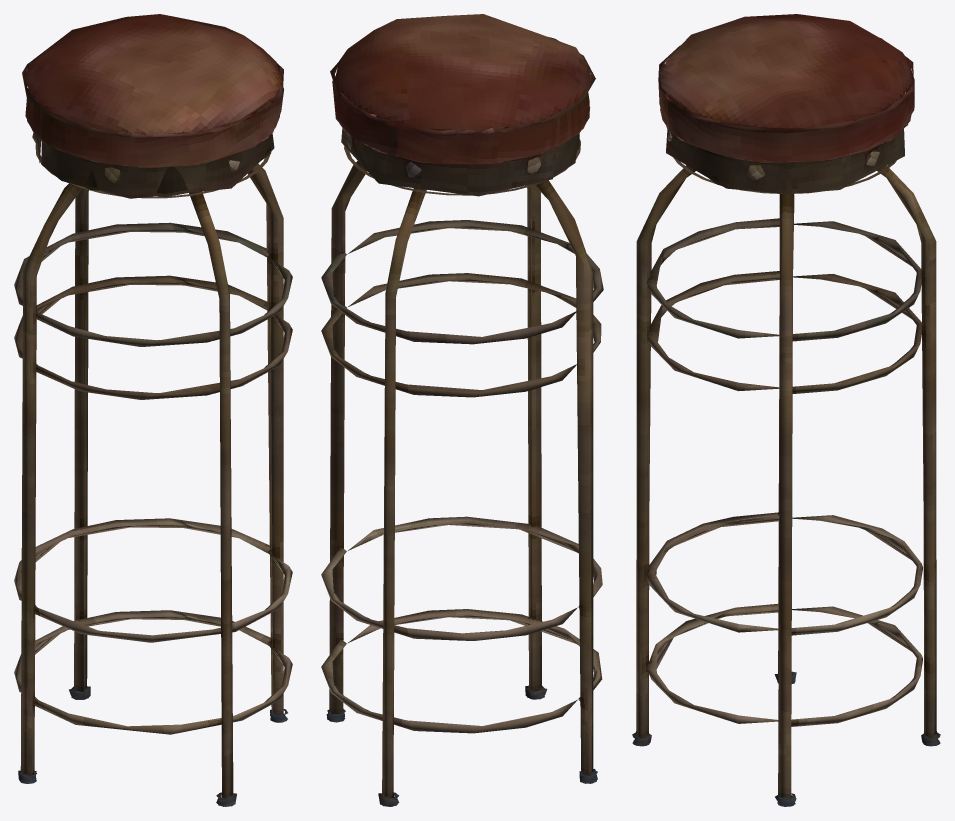
File: metal_stool_01.glb
The picture shows the model from 3 angles, left to right: view 1: azimuth 30°, elevation 25°; view 2: azimuth 150°, elevation 25°; view 3: azimuth 270°, elevation 25°; orthographic projection.
Visible parts, largest first — view 1: metal_stool_01; view 2: metal_stool_01; view 3: metal_stool_01.
Boxes of the visible parts, box(x1,y1,x2,y2) form: metal_stool_01: box(14, 14, 292, 806); metal_stool_01: box(321, 14, 603, 806); metal_stool_01: box(632, 14, 940, 806).
Size of the model in its own units: 0.352 by 0.881 by 0.3545.
Materials: 1 (1 with a texture image).
